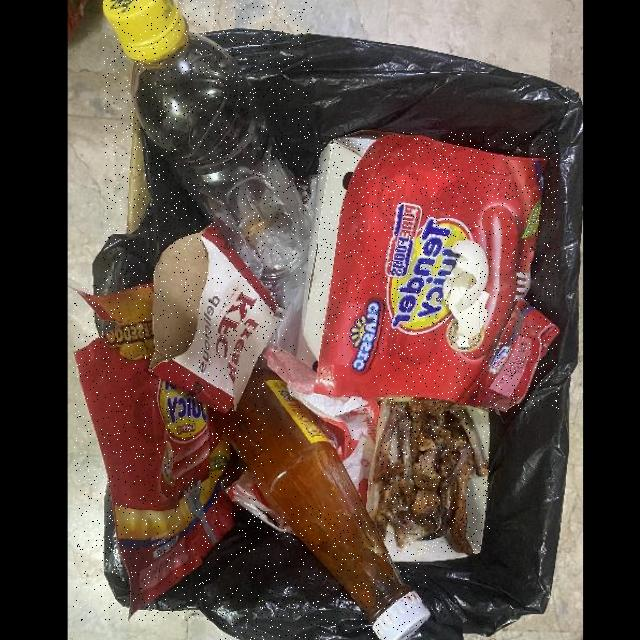biowaste: (373, 396, 490, 553)
glass: (218, 354, 426, 640)
paper: (147, 224, 287, 416), (265, 344, 379, 507)
plastic: (104, 0, 313, 285)
wrapper: (315, 132, 559, 413), (73, 285, 246, 620)
